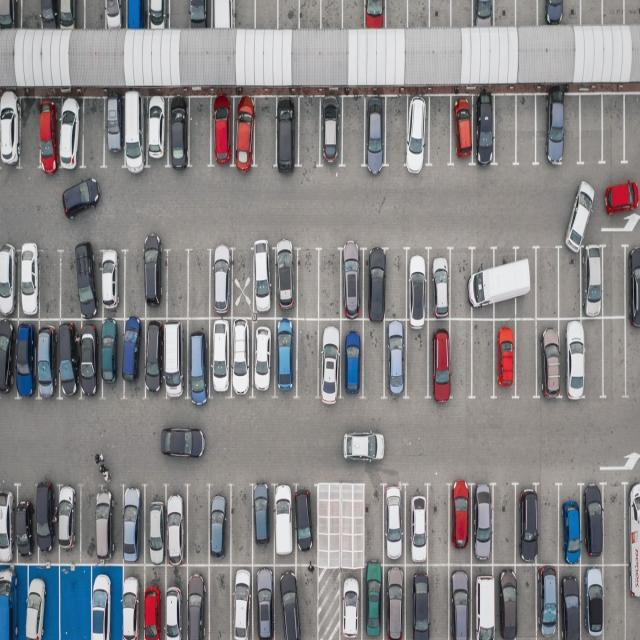space-empty: (58, 562, 93, 638), (206, 564, 235, 639), (602, 318, 629, 396), (230, 486, 256, 566), (293, 320, 319, 398), (512, 320, 538, 397), (423, 564, 450, 638), (291, 564, 318, 638), (448, 319, 473, 398), (404, 322, 430, 397), (471, 319, 496, 396), (361, 320, 386, 397), (425, 96, 452, 167), (603, 244, 629, 317), (557, 243, 582, 318), (185, 486, 209, 564), (492, 487, 516, 565), (341, 95, 367, 167), (254, 94, 280, 166), (603, 96, 628, 170), (380, 250, 406, 321), (188, 97, 214, 168), (82, 98, 108, 169), (335, 486, 358, 566), (228, 247, 253, 320), (604, 562, 628, 638), (582, 318, 605, 397), (383, 97, 408, 169), (293, 251, 319, 320), (448, 250, 474, 319), (427, 485, 449, 566), (361, 487, 383, 568), (535, 244, 559, 318), (538, 489, 561, 566), (297, 98, 323, 166), (492, 93, 516, 166), (20, 99, 44, 172), (188, 249, 213, 319), (515, 566, 539, 638), (316, 251, 341, 320), (603, 486, 625, 564), (38, 250, 62, 321), (515, 94, 538, 166), (580, 96, 603, 167), (61, 250, 85, 318), (124, 250, 148, 317), (167, 248, 190, 316), (318, 488, 337, 567), (78, 486, 96, 560), (625, 318, 640, 396), (624, 94, 640, 164), (319, 0, 342, 31), (341, 0, 365, 29), (384, 0, 408, 29), (407, 0, 431, 29), (299, 0, 322, 30), (85, 0, 107, 31), (449, 0, 474, 27), (254, 0, 277, 29), (21, 0, 43, 30), (168, 0, 190, 30), (277, 0, 299, 30), (234, 0, 256, 28), (430, 0, 452, 28), (515, 0, 537, 27), (493, 0, 515, 27), (581, 0, 603, 25), (601, 1, 624, 24), (624, 0, 640, 24)
space-occupied: (18, 564, 56, 640), (86, 562, 120, 638), (560, 318, 590, 399), (539, 94, 570, 167), (470, 563, 500, 638), (186, 319, 213, 401), (229, 565, 258, 640), (537, 320, 564, 398), (251, 318, 278, 396), (446, 482, 472, 563), (182, 564, 210, 639), (206, 319, 232, 399), (272, 317, 298, 396), (122, 318, 148, 397), (380, 482, 405, 564), (492, 318, 519, 393), (445, 564, 472, 639), (161, 319, 186, 400), (227, 319, 252, 399), (95, 483, 120, 562), (160, 567, 187, 640), (404, 250, 432, 320), (140, 564, 166, 639), (382, 321, 407, 399), (405, 94, 431, 169), (120, 565, 146, 640), (33, 320, 58, 398), (58, 320, 82, 401), (471, 246, 498, 318), (491, 246, 518, 318), (253, 243, 279, 317), (123, 96, 149, 170), (208, 484, 232, 564), (406, 483, 430, 563), (12, 319, 36, 399), (56, 484, 81, 560), (74, 247, 100, 320), (164, 485, 188, 564), (472, 483, 496, 562), (340, 317, 364, 396), (208, 248, 235, 318), (449, 96, 476, 166), (274, 563, 299, 638), (273, 247, 299, 319), (143, 96, 169, 168), (31, 482, 55, 560), (318, 316, 341, 397), (534, 566, 559, 640), (579, 244, 604, 318), (100, 250, 127, 318), (560, 491, 585, 564), (428, 322, 452, 398), (361, 250, 387, 320), (123, 485, 146, 564), (100, 316, 123, 395), (14, 246, 39, 318), (59, 98, 84, 170), (380, 563, 404, 638), (558, 563, 582, 638), (253, 565, 277, 640), (405, 564, 429, 638), (209, 97, 234, 168), (167, 99, 192, 170), (317, 98, 343, 166), (250, 485, 272, 565), (143, 484, 165, 564), (40, 98, 64, 171), (232, 98, 257, 168), (274, 97, 299, 167), (341, 570, 366, 640), (273, 484, 296, 560), (578, 562, 601, 638), (364, 97, 388, 169), (512, 246, 536, 318), (426, 252, 452, 318), (144, 319, 166, 397), (104, 98, 128, 168), (80, 320, 101, 400), (494, 567, 517, 640), (340, 251, 365, 318), (293, 490, 315, 566), (516, 488, 538, 564), (473, 97, 496, 168), (144, 248, 168, 316), (360, 568, 382, 640), (0, 95, 21, 170), (14, 490, 35, 564), (0, 564, 20, 640), (584, 488, 604, 563), (0, 244, 19, 317), (0, 490, 17, 567), (625, 482, 640, 563), (625, 561, 640, 637), (0, 319, 14, 397), (540, 0, 579, 25), (627, 245, 640, 318), (56, 0, 81, 29), (126, 0, 150, 30), (146, 0, 170, 29), (209, 0, 233, 28), (188, 0, 211, 29), (104, 0, 126, 30), (362, 0, 385, 28), (473, 1, 497, 27), (0, 0, 20, 30), (39, 0, 58, 28), (69, 0, 85, 30)
